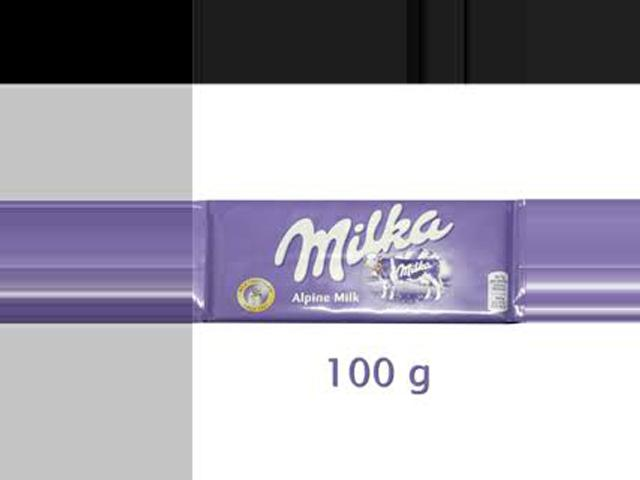chocolate: (200, 196, 528, 346)
